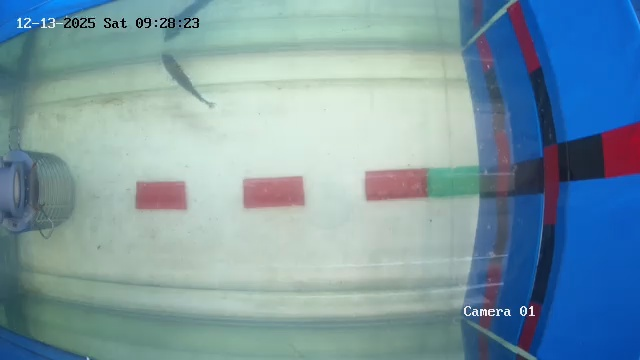fish: (159, 49, 218, 114)
